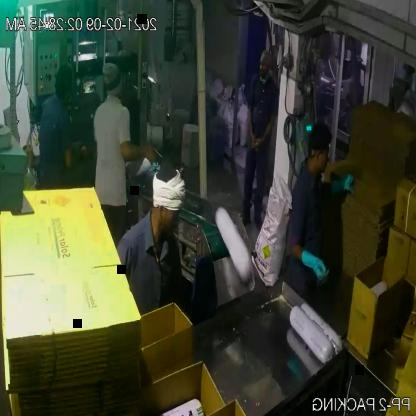glove: (290, 243, 332, 287), (325, 162, 365, 202)
no_glove: (249, 109, 279, 153), (117, 136, 160, 163), (58, 138, 90, 172), (244, 101, 261, 144)
